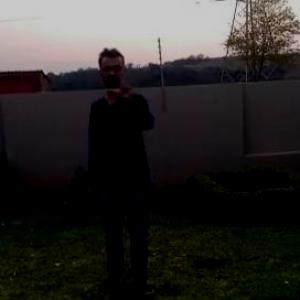land_hand: (109, 72, 135, 113)
